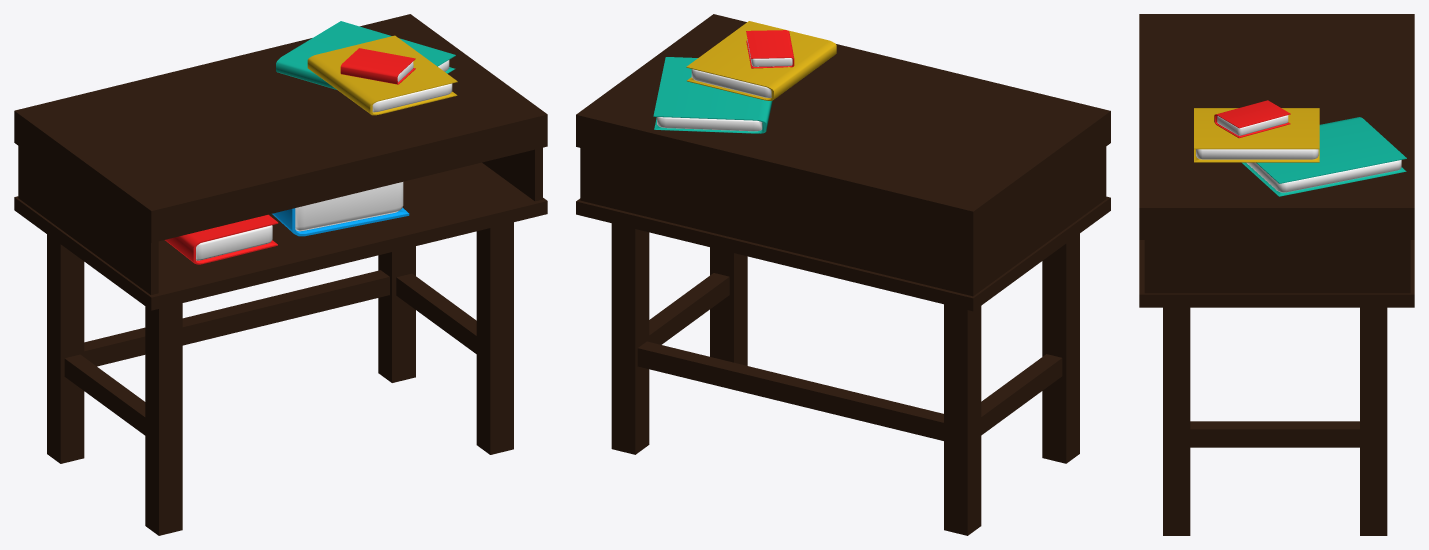
3 views of the same model, side by side, from view 1: azimuth 30°, elevation 25°; view 2: azimuth 150°, elevation 25°; view 3: azimuth 270°, elevation 25° (orthographic).
Parts seen in each view (by area): view 1: Box001, Box003, C-Ext001, Box002, Box006, Box004, Box007, ChamferBox008, Box005, ChamferBox004, ChamferBox005, ChamferBox003 (+3 smaller); view 2: Box001, C-Ext001, Box004, Box007, Box005, Box003, Box002, ChamferBox008, ChamferBox005, Box006, Box008, Box009 (+1 smaller); view 3: Box001, C-Ext001, Box005, Box006, ChamferBox005, ChamferBox008, Box003, Box009, ChamferBox010.
Boxes of the visible parts, left/top/right/bottom form: Box001: left=14, top=14, right=547, bottom=242; Box003: left=14, top=162, right=547, bottom=310; C-Ext001: left=18, top=146, right=542, bottom=294; Box002: left=145, top=303, right=182, bottom=535; Box006: left=476, top=222, right=513, bottom=454; Box004: left=47, top=234, right=84, bottom=463; Box007: left=84, top=270, right=389, bottom=366; ChamferBox008: left=307, top=35, right=457, bottom=115; Box005: left=378, top=246, right=415, bottom=382; ChamferBox004: left=272, top=182, right=409, bottom=236; ChamferBox005: left=276, top=21, right=455, bottom=89; ChamferBox003: left=165, top=214, right=278, bottom=264; Box001: left=576, top=14, right=1110, bottom=243; C-Ext001: left=580, top=147, right=1106, bottom=296; Box004: left=944, top=304, right=981, bottom=535; Box007: left=637, top=341, right=943, bottom=440; Box005: left=611, top=223, right=649, bottom=454; Box003: left=576, top=196, right=1110, bottom=311; Box002: left=1042, top=233, right=1079, bottom=463; ChamferBox008: left=686, top=21, right=836, bottom=100; ChamferBox005: left=653, top=57, right=772, bottom=133; Box006: left=710, top=247, right=747, bottom=365; Box008: left=981, top=354, right=1062, bottom=435; Box009: left=649, top=273, right=729, bottom=344; Box001: left=1139, top=14, right=1414, bottom=239; C-Ext001: left=1144, top=240, right=1410, bottom=293; Box005: left=1360, top=307, right=1387, bottom=535; Box006: left=1163, top=307, right=1190, bottom=535; ChamferBox005: left=1242, top=117, right=1406, bottom=196; ChamferBox008: left=1194, top=108, right=1319, bottom=162; Box003: left=1139, top=240, right=1414, bottom=307; Box009: left=1190, top=421, right=1359, bottom=447; ChamferBox010: left=1214, top=100, right=1290, bottom=138.
Size of the model in its own units: 50 by 45.54 by 30.
Materials: 2 (1 with a texture image).
